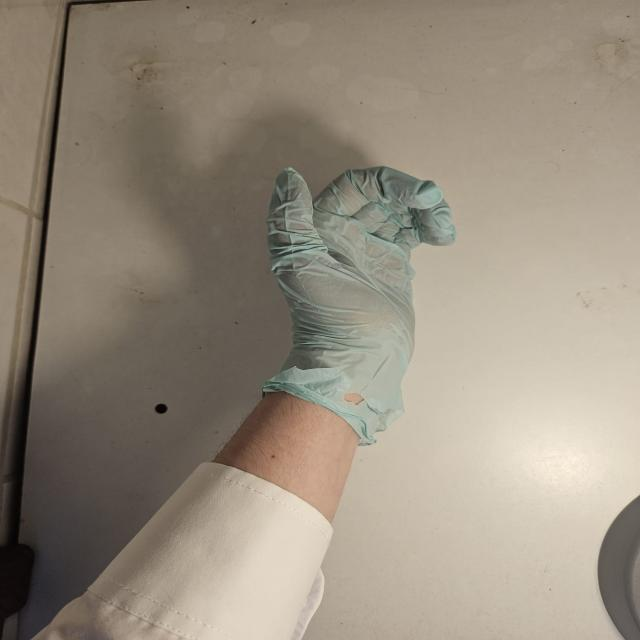gloves_damaged: (259, 164, 458, 448)
